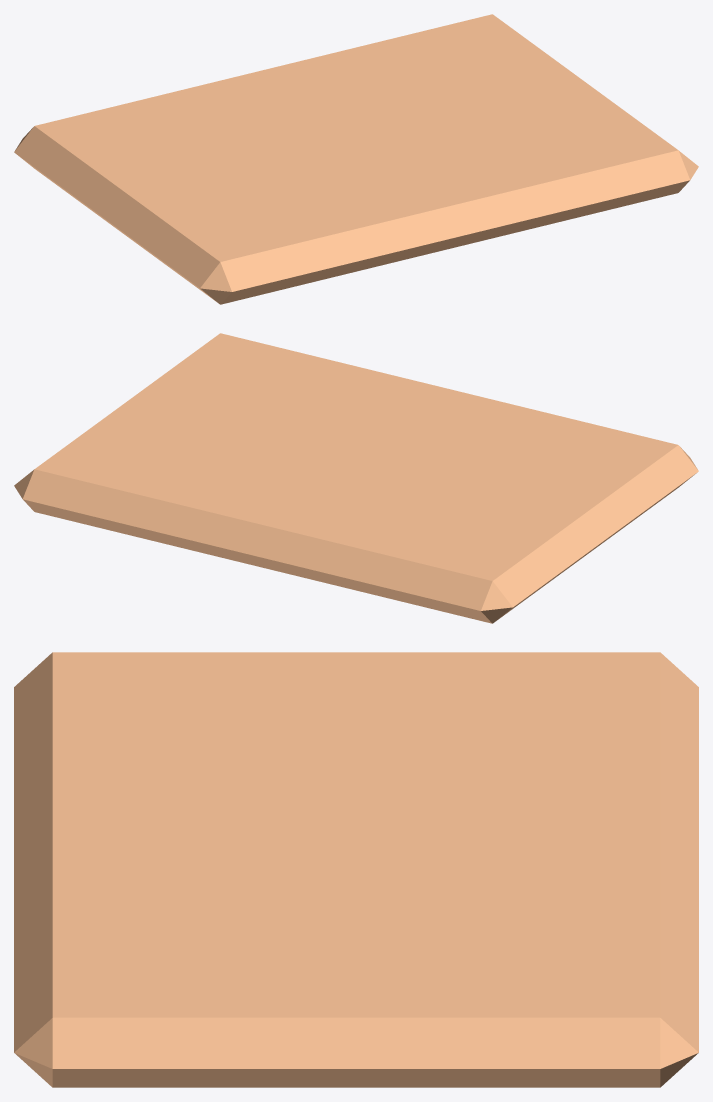
The picture shows the model from 3 angles, top to bottom: view 1: azimuth 30°, elevation 25°; view 2: azimuth 150°, elevation 25°; view 3: azimuth 270°, elevation 25°; orthographic projection. The views are drawn at different scales.
Visible parts, largest first — view 1: Deck; view 2: Deck; view 3: Deck.
Part boxes in pixels (x1=…): Deck: x1=14, y1=14, x2=698, y2=304; Deck: x1=14, y1=333, x2=698, y2=623; Deck: x1=14, y1=652, x2=698, y2=1087.
Bounding box in the file's own units: 2.2 × 0.18 × 1.6.
Materials: 1 (1 with a texture image).
